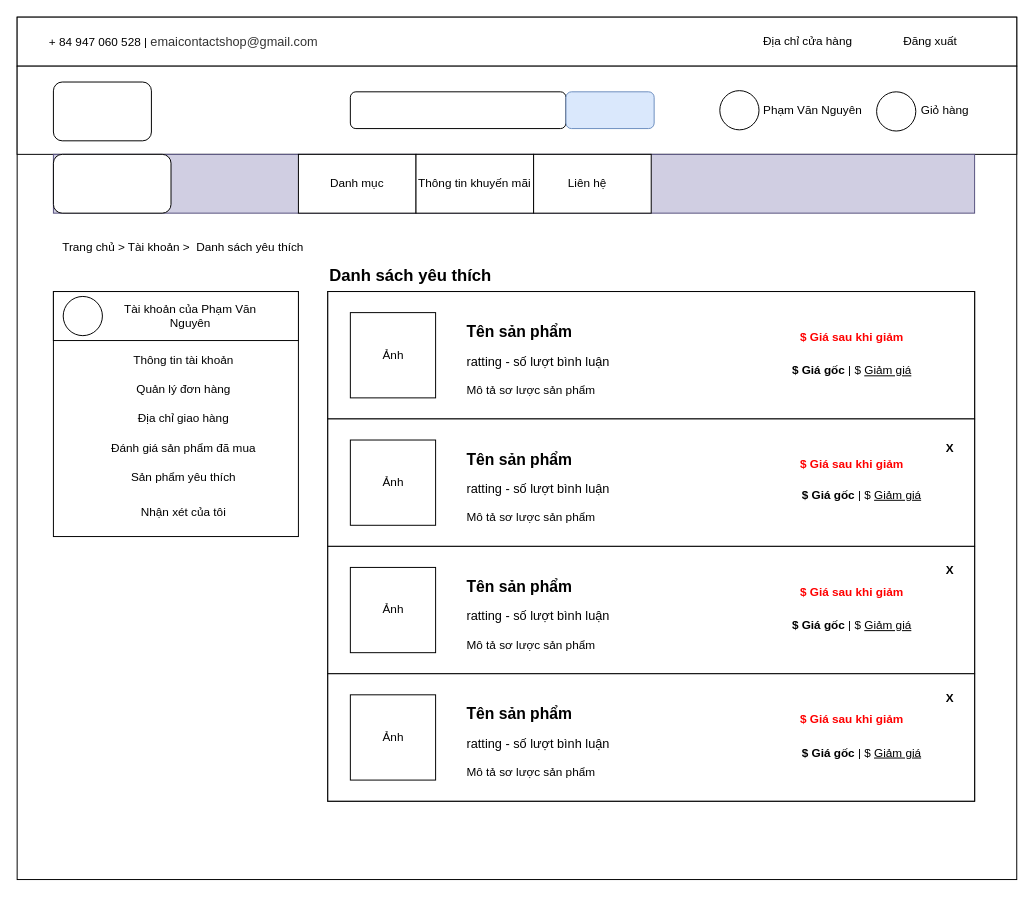
Image size: 1034x897. Some labels were removed from this diagram. Here are the shapes that lost their labels. From the top down, the box of each, then its label:
(52, 81, 151, 141): Logo shop
(52, 153, 171, 213): Trang chủ
